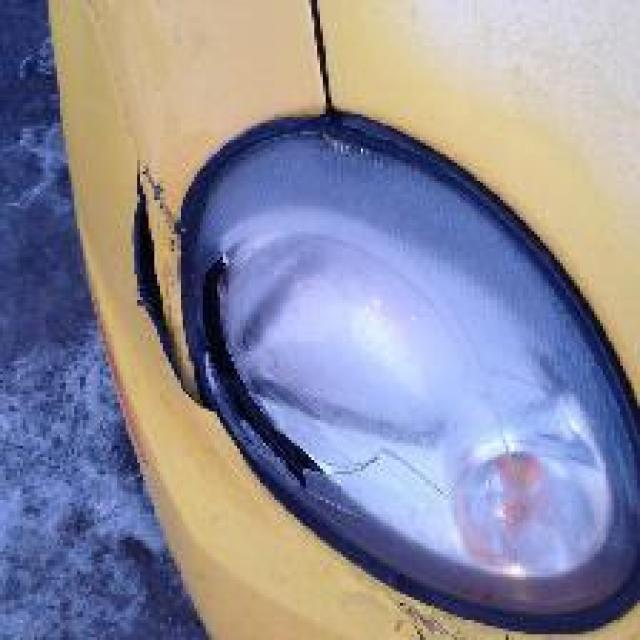damaged: (123, 155, 383, 560), (382, 588, 514, 638)
